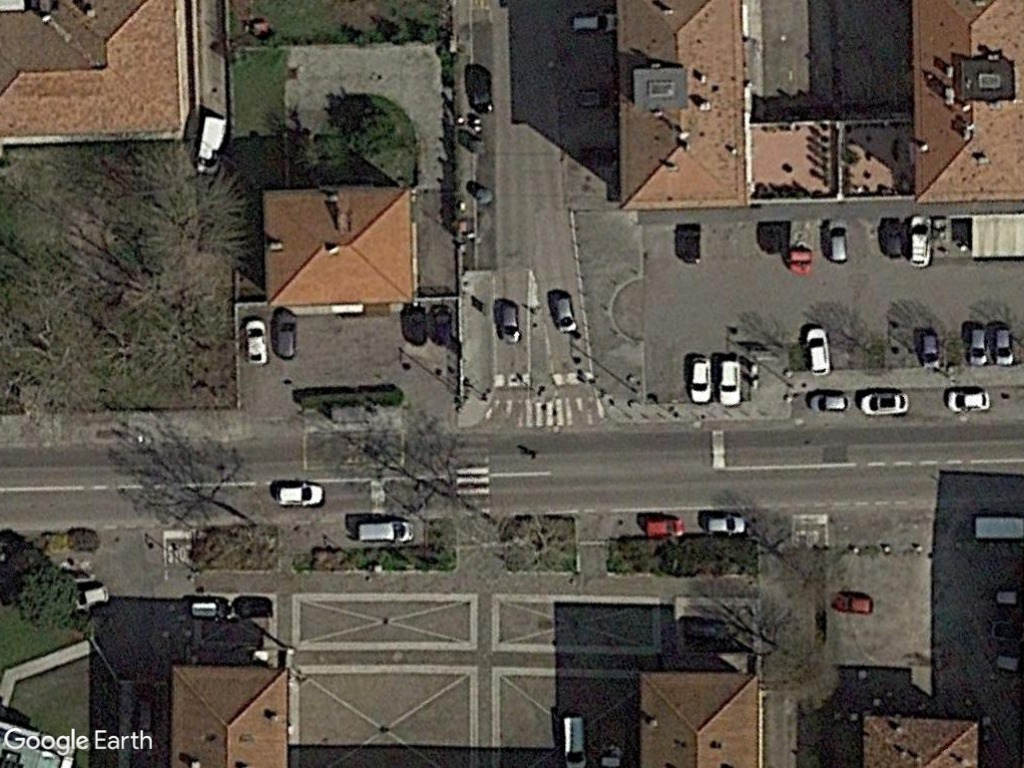car: (355, 515, 422, 548), (272, 306, 303, 367), (827, 585, 881, 620), (271, 479, 330, 511), (855, 387, 913, 419), (801, 324, 834, 378), (907, 211, 937, 270), (822, 215, 855, 267), (685, 352, 716, 407), (716, 352, 745, 410), (940, 385, 992, 417), (242, 315, 272, 370), (496, 296, 527, 349), (548, 289, 581, 338), (699, 512, 752, 541), (568, 9, 621, 37), (804, 389, 855, 417), (641, 513, 691, 541), (918, 328, 947, 375), (963, 323, 990, 369), (991, 324, 1018, 370)
truck: (190, 108, 231, 180)
van: (558, 712, 591, 768)
